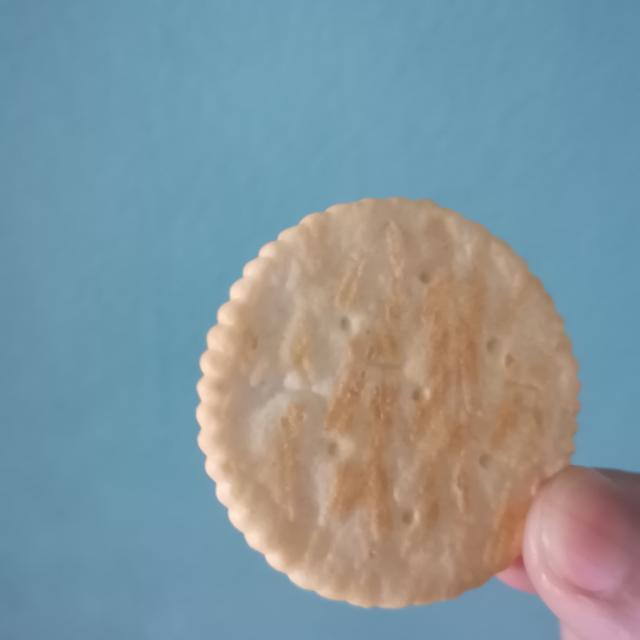Intact: (186, 192, 586, 611)
